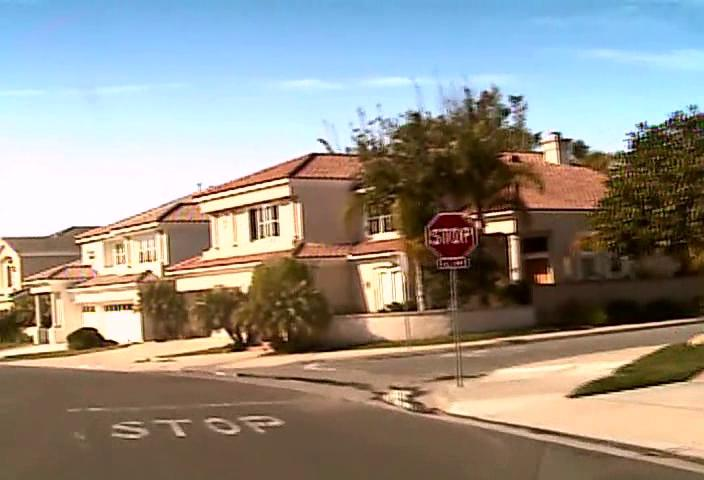stop: (425, 211, 478, 259)
